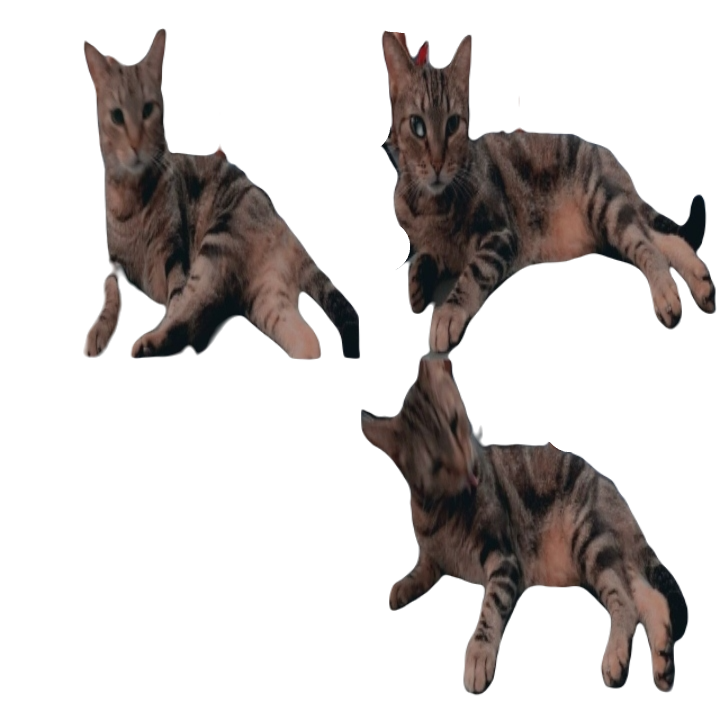Cat: (373, 360, 706, 696), (374, 31, 719, 349), (63, 32, 361, 367)
